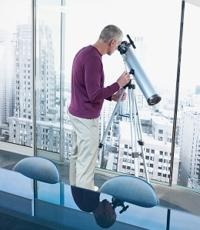person without safety: (64, 25, 133, 147)
